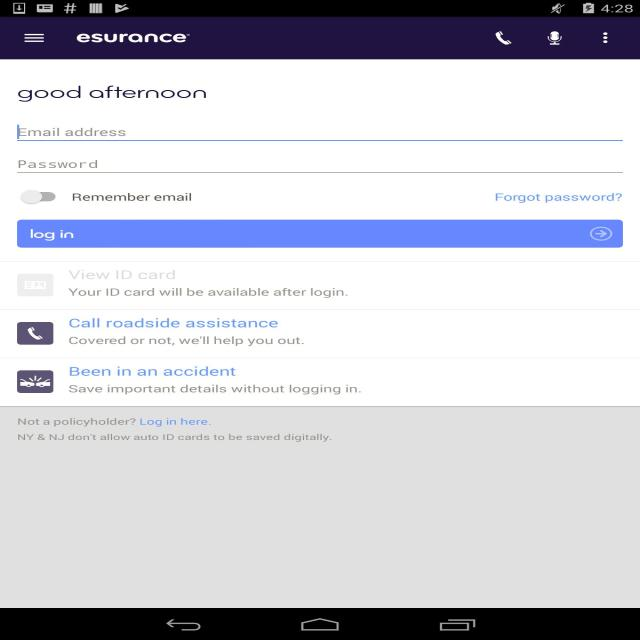button: (18, 220, 622, 247), (538, 26, 570, 52), (19, 188, 59, 206), (588, 26, 618, 49), (491, 26, 517, 49), (21, 30, 48, 45)
field: (14, 148, 624, 172), (16, 116, 621, 140)
heading: (15, 85, 211, 101), (78, 31, 197, 47)
image: (15, 368, 57, 394), (15, 321, 54, 346), (14, 275, 53, 298)
label: (70, 191, 195, 203), (16, 127, 129, 139), (15, 158, 100, 171)
link: (494, 190, 624, 205), (136, 417, 215, 428)
text: (67, 363, 366, 397), (15, 416, 334, 446), (68, 269, 350, 301), (65, 316, 303, 350)
